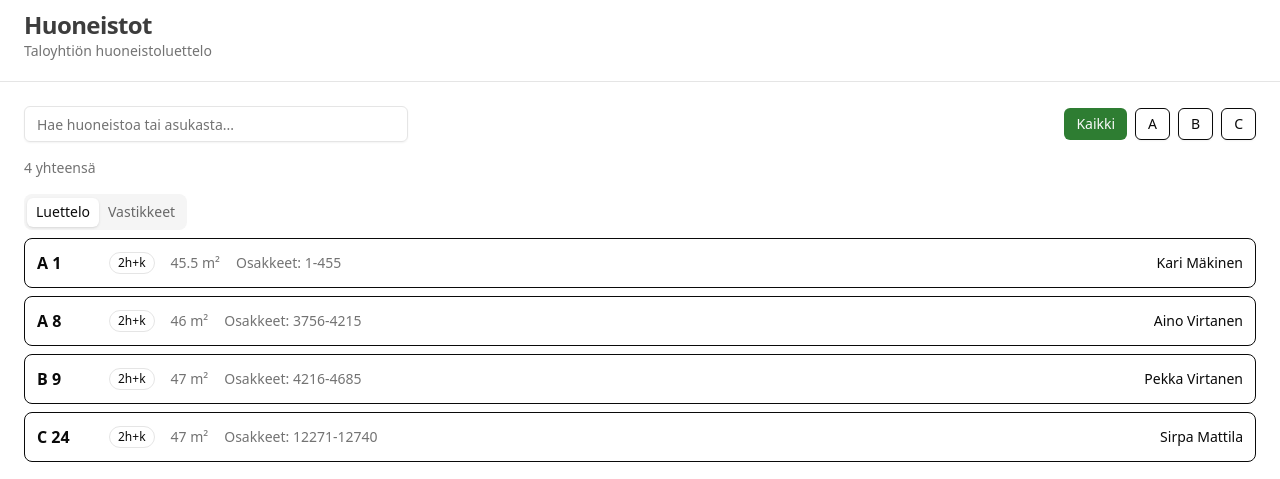
ApartmentsPage › filters by staircase
The width and height of the screenshot is (1280, 479).
Expected: the text "A 1" is shown, [37,252,61,274]
Click the button "B". click: point(1196, 124)
box: [1178,108,1213,140]
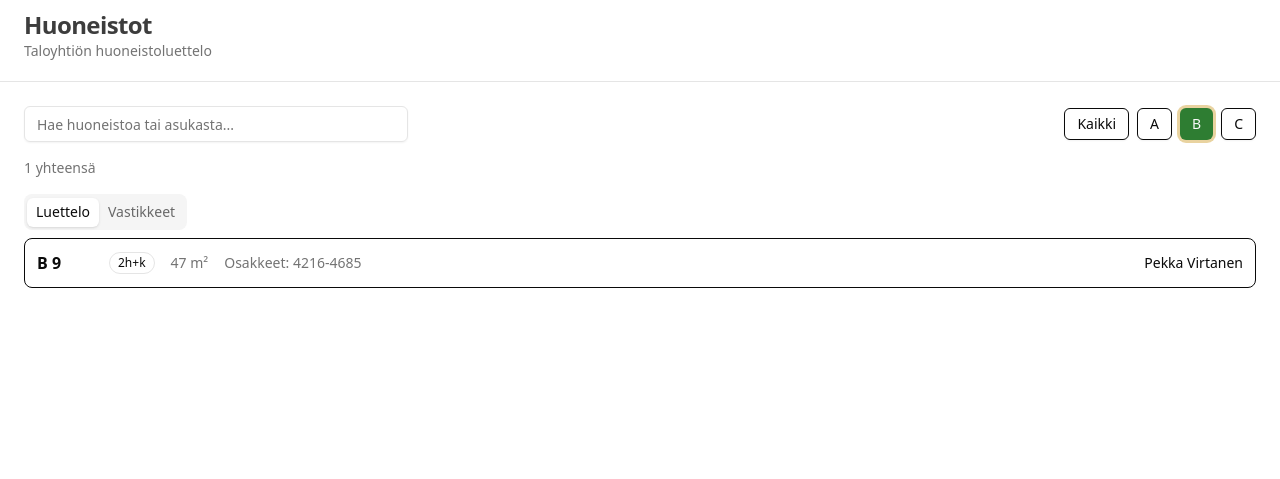
Expected: the text "B 9" is shown, [37,252,61,274]
Now the text "1 yhteensä" is shown, box [24,158,96,177]
Now the text "A 1" is gone
